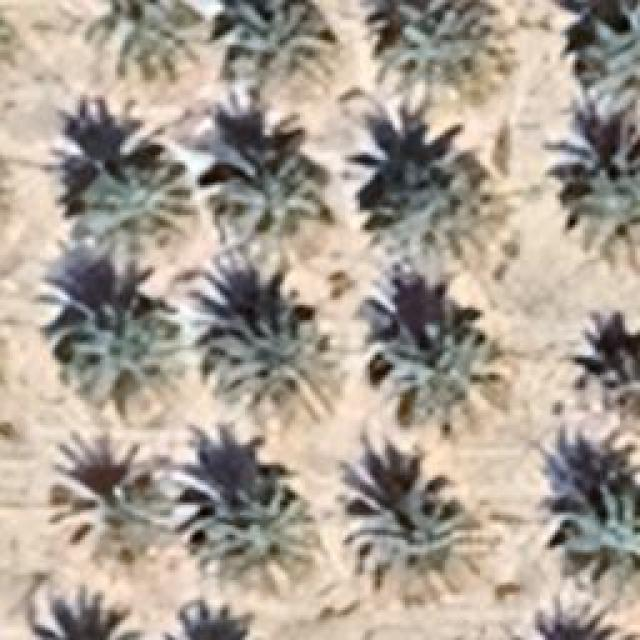PalmTree: (12, 21, 578, 630), (170, 470, 315, 600), (342, 475, 480, 603), (370, 310, 508, 432), (210, 302, 348, 422), (40, 298, 180, 412), (354, 0, 504, 100), (205, 145, 335, 260), (375, 145, 503, 260), (70, 141, 190, 259), (542, 120, 638, 245), (216, 0, 324, 108), (82, 0, 210, 80), (560, 478, 638, 608), (49, 478, 172, 560), (577, 0, 640, 114), (30, 584, 145, 638), (592, 338, 640, 432), (165, 600, 265, 638), (0, 0, 18, 80)
